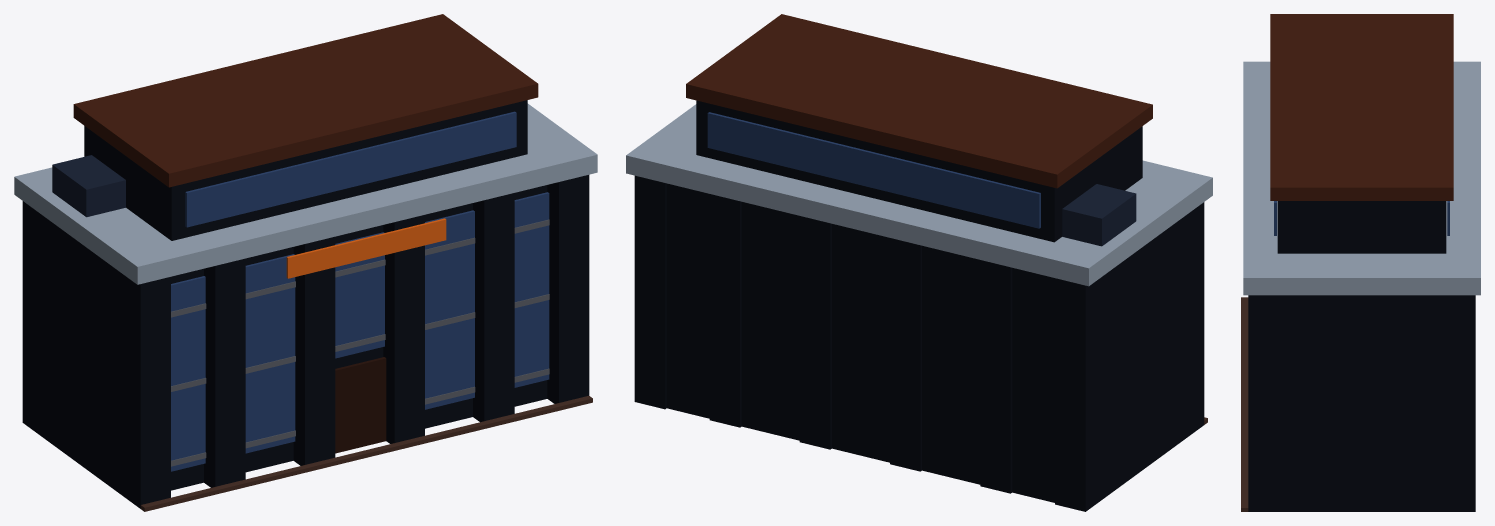
File: retailpark4.obj
The picture shows the model from 3 angles, left to right: view 1: azimuth 30°, elevation 25°; view 2: azimuth 150°, elevation 25°; view 3: azimuth 270°, elevation 25°; orthographic projection. The views are drawn at different scales.
Parts seen in each view (by area): view 1: hall-piers, clerestory-cap, hall-glazing, hall-cap, clerestory-glazing, clerestory, hall-back, entrance, glazing-bars, pavement, hall-sign, roof-plant; view 2: hall-piers, hall-back, clerestory-cap, hall-cap, clerestory-glazing, clerestory, roof-plant; view 3: hall-piers, clerestory-cap, hall-cap, clerestory, pavement.
Boxes of the visible parts, left/top/right/bottom form: hall-piers: left=22, top=175, right=589, bottom=508; clerestory-cap: left=73, top=14, right=538, bottom=187; hall-glazing: left=171, top=192, right=549, bottom=471; hall-cap: left=14, top=103, right=597, bottom=284; clerestory-glazing: left=185, top=111, right=516, bottom=227; clerestory: left=84, top=100, right=527, bottom=240; hall-back: left=171, top=185, right=547, bottom=490; entrance: left=335, top=357, right=386, bottom=453; glazing-bars: left=171, top=219, right=549, bottom=466; pavement: left=140, top=396, right=592, bottom=511; hall-sign: left=286, top=218, right=446, bottom=278; roof-plant: left=52, top=155, right=125, bottom=217; hall-piers: left=634, top=175, right=1204, bottom=511; hall-back: left=666, top=183, right=1054, bottom=502; clerestory-cap: left=686, top=14, right=1152, bottom=188; hall-cap: left=626, top=104, right=1212, bottom=286; clerestory-glazing: left=707, top=112, right=1040, bottom=228; clerestory: left=696, top=100, right=1142, bottom=242; roof-plant: left=1062, top=184, right=1136, bottom=246; hall-piers: left=1248, top=295, right=1475, bottom=511; clerestory-cap: left=1270, top=14, right=1453, bottom=200; hall-cap: left=1243, top=61, right=1480, bottom=295; clerestory: left=1277, top=201, right=1446, bottom=253; pavement: left=1241, top=297, right=1248, bottom=511.
Size of the model in its own units: 6.98 by 4.6 by 3.27.
